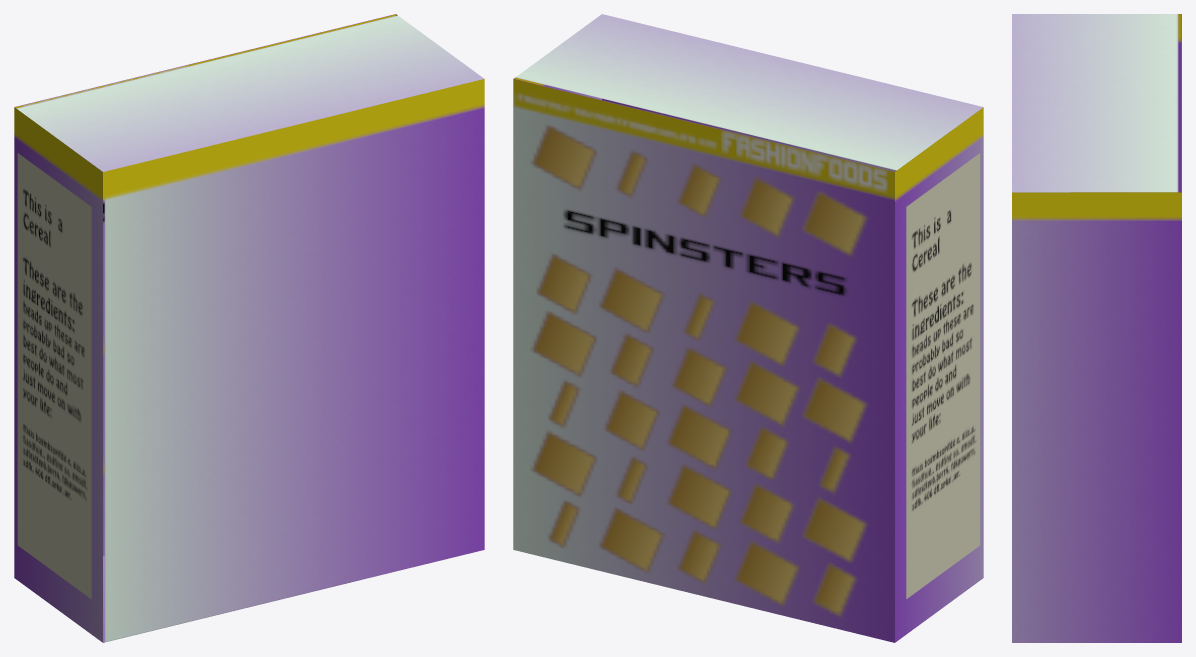
File: FoodBox1.fbx
3 views of the same model, side by side, from view 1: azimuth 30°, elevation 25°; view 2: azimuth 150°, elevation 25°; view 3: azimuth 270°, elevation 25° (orthographic). The views are drawn at different scales.
Parts seen in each view (by area): view 1: FoodBox1; view 2: FoodBox1; view 3: FoodBox1.
Part boxes in pixels (x1,y1,x2,y2): FoodBox1: [14, 14, 484, 642]; FoodBox1: [513, 14, 983, 642]; FoodBox1: [1012, 14, 1181, 642].
Bounding box in the file's own units: 0.3932 × 0.4588 × 0.1566.
